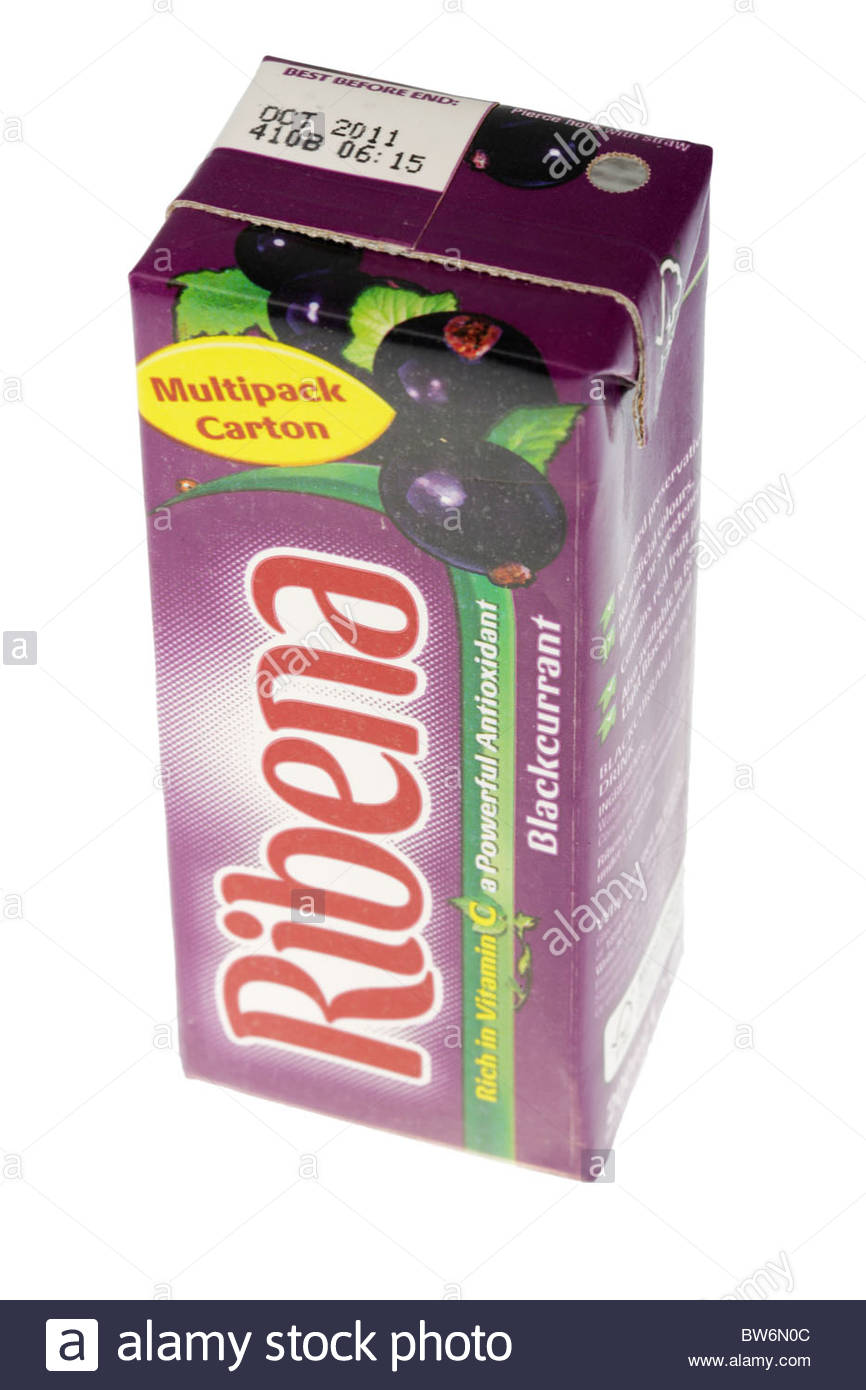carton: (80, 10, 748, 1219)
